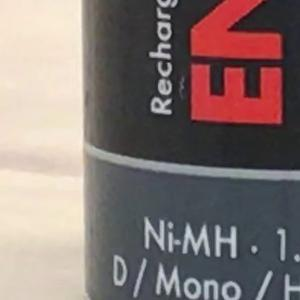NIMH: (135, 216, 242, 260)
